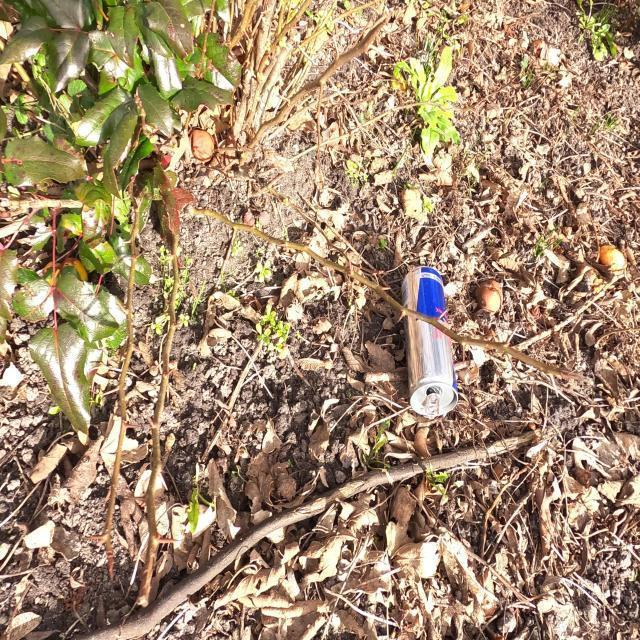Can-Metal: (398, 265, 460, 423)
